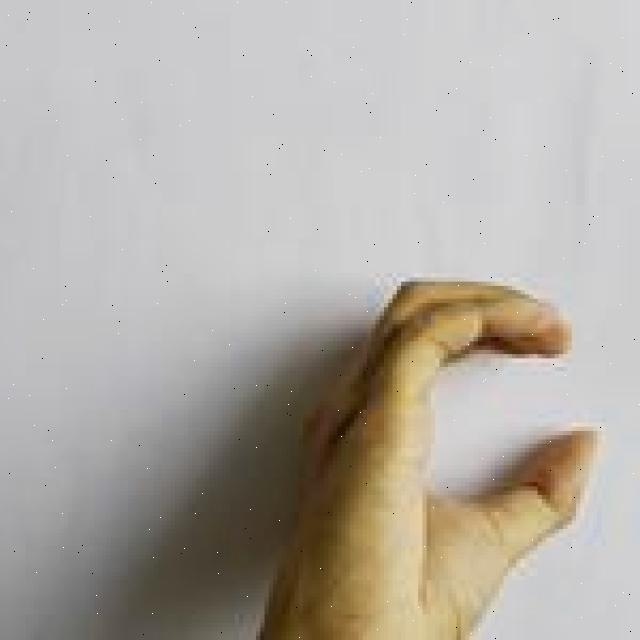C: (264, 276, 606, 640)
